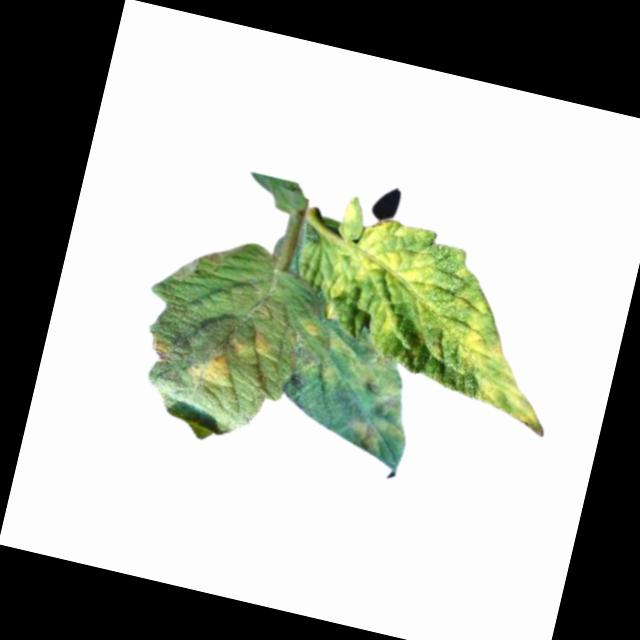Leaf_Mold: (411, 245, 580, 437), (273, 313, 427, 460), (316, 210, 451, 348), (187, 344, 239, 391), (228, 323, 276, 361), (144, 336, 176, 363)
